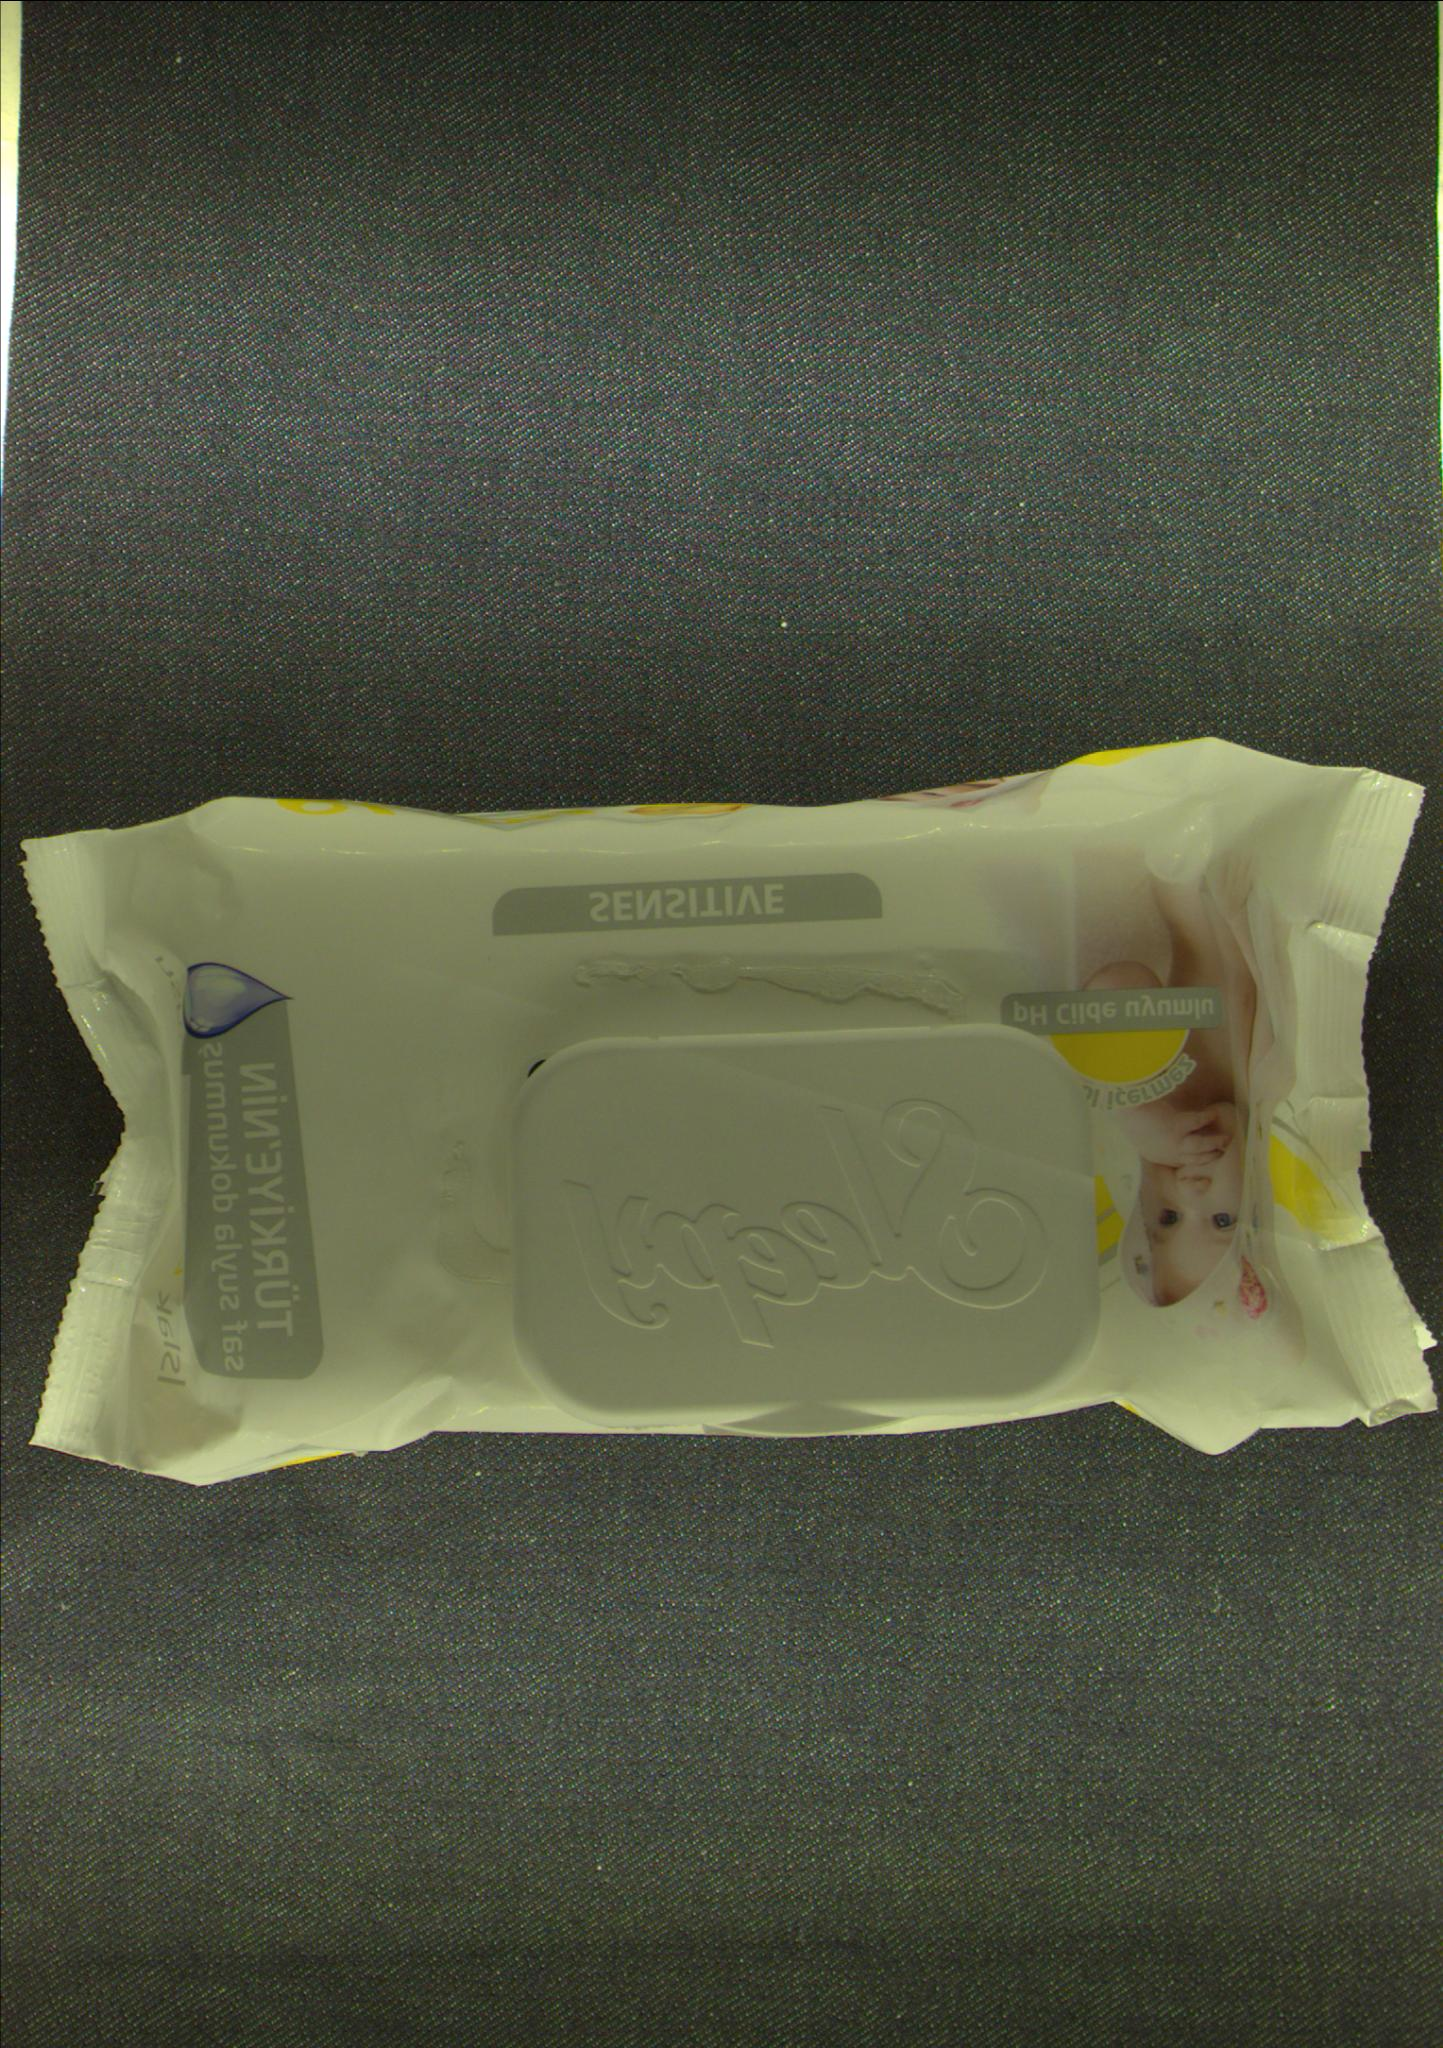kapak: (515, 1024, 1096, 1433)
